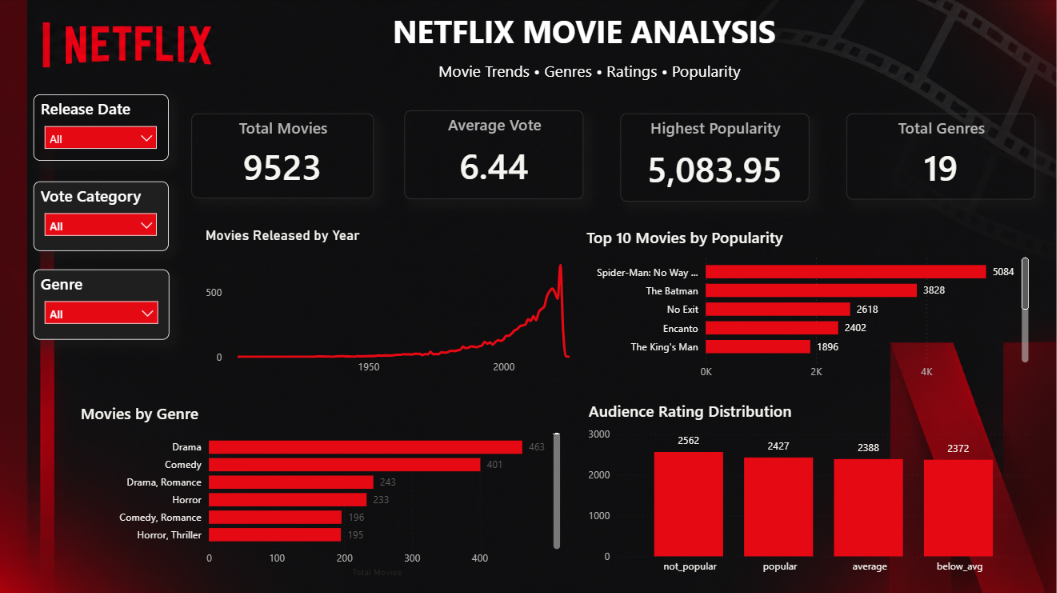

The dashboard page shown, as its layout file describes it:
{"tool":"powerbi","page":{"name":"Page 1","canvas":[1280,720],"ordinal":0},"visuals":[{"type":"card","title":"Total Movies","fields":{"Values":["mymoviedb.Total Movies"]},"box":[232.3,138.1,220,102.5],"z":0},{"type":"card","title":"Average Vote","fields":{"Values":["mymoviedb.Average Vote"]},"box":[489.8,135.6,216.2,107.5],"z":1000},{"type":"card","title":"Highest Popularity","fields":{"Values":["mymoviedb.Highest Popularity"]},"box":[750.8,138.7,227.8,106.7],"z":2000},{"type":"card","title":"Total Genres","fields":{"Values":["mymoviedb.Total Genres"]},"box":[1022.6,139.1,228,104],"z":3000},{"type":"textbox","box":[470,10,567.1,72.9],"z":4000},{"type":"textbox","box":[525.7,70,450,45.7],"z":5000},{"type":"lineChart","title":"Movies Released by Year","fields":{"Category":["mymoviedb.Release_Date.Variation.Date Hierarchy.Year"],"Y":["mymoviedb.Movies by Year"]},"box":[244.4,275.6,461.1,187.8],"z":6000},{"type":"clusteredBarChart","title":"Top 10 Movies by Popularity","fields":{"Category":["mymoviedb.Title"],"Y":["mymoviedb.Max Popularity"]},"box":[705,275,543.3,193.3],"z":7000},{"type":"clusteredBarChart","title":"Movies by Genre","fields":{"Category":["mymoviedb.Genre"],"Y":["mymoviedb.Total Movies"]},"box":[94.1,487.4,588.7,216],"z":8000},{"type":"clusteredColumnChart","title":"Audience Rating Distribution","fields":{"Category":["mymoviedb.Vote Category"],"Y":["mymoviedb.Total Movies"]},"box":[706.7,485,545,218.3],"z":9000},{"type":"slicer","title":"Release Date","fields":{"Values":["mymoviedb.Release_Date"]},"box":[42,116,162.9,80],"z":10000},{"type":"slicer","title":"Vote Category","fields":{"Values":["mymoviedb.Vote Category"]},"box":[42,220.3,162.9,84.3],"z":11000},{"type":"slicer","title":"Genre","fields":{"Values":["mymoviedb.Genre"]},"box":[42.2,326.9,164.1,84.5],"z":12000}]}

Visuals, with their boxes in screenshot pixels (x1, y1, x2, y2), scaled from the page's 1280x720 canvas onto the 1057x593 screenshot:
"Total Movies" card: <bbox>192, 114, 374, 198</bbox>
"Average Vote" card: <bbox>404, 112, 583, 200</bbox>
"Highest Popularity" card: <bbox>620, 114, 808, 202</bbox>
"Total Genres" card: <bbox>844, 115, 1033, 200</bbox>
textbox: <bbox>388, 8, 856, 68</bbox>
textbox: <bbox>434, 58, 806, 95</bbox>
"Movies Released by Year" lineChart: <bbox>202, 227, 583, 382</bbox>
"Top 10 Movies by Popularity" clusteredBarChart: <bbox>582, 226, 1031, 386</bbox>
"Movies by Genre" clusteredBarChart: <bbox>78, 401, 564, 579</bbox>
"Audience Rating Distribution" clusteredColumnChart: <bbox>584, 399, 1034, 579</bbox>
"Release Date" slicer: <bbox>35, 96, 169, 161</bbox>
"Vote Category" slicer: <bbox>35, 181, 169, 251</bbox>
"Genre" slicer: <bbox>35, 269, 170, 339</bbox>
